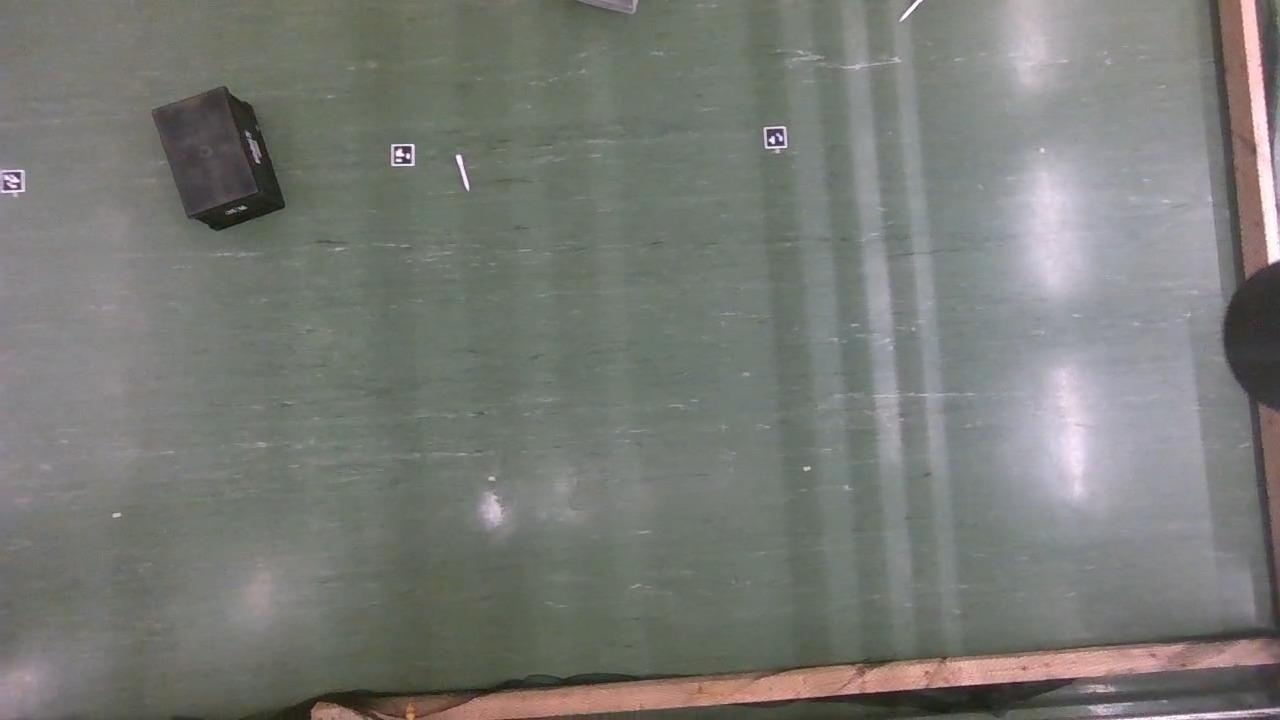probes: (456, 155, 472, 193), (901, 0, 923, 23)
rako: (152, 88, 284, 233)
